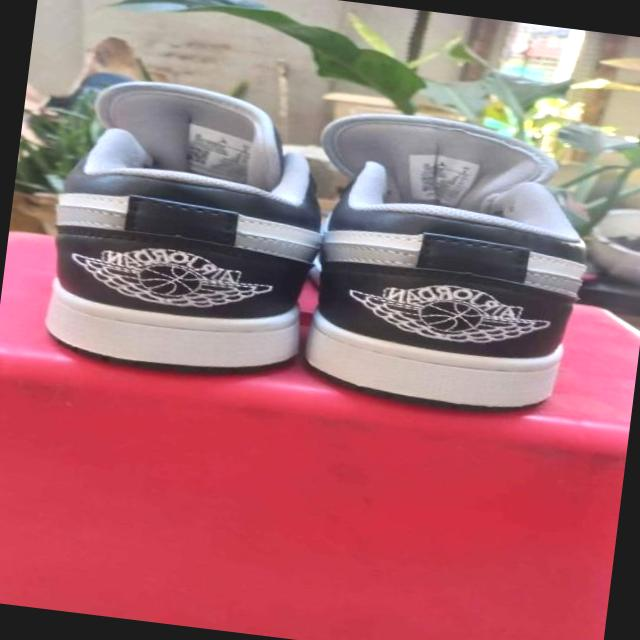nike_fake_jordan: (284, 93, 602, 421), (28, 71, 341, 388)
